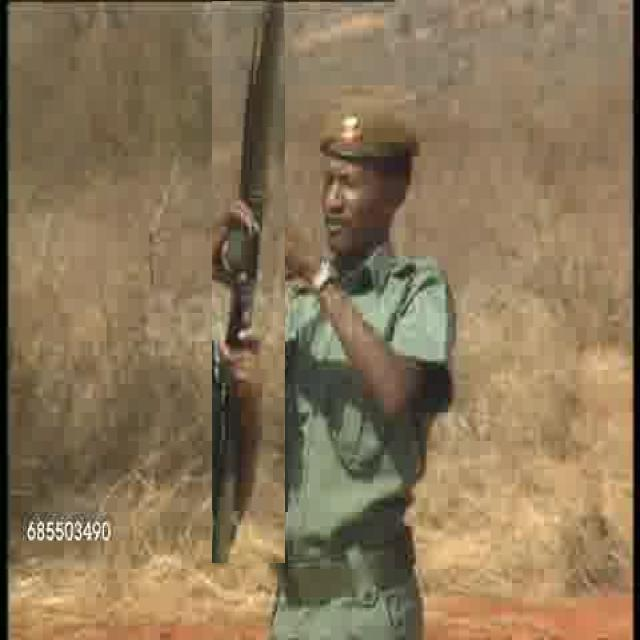poacher: (282, 71, 426, 525)
weapon: (212, 1, 285, 564)
